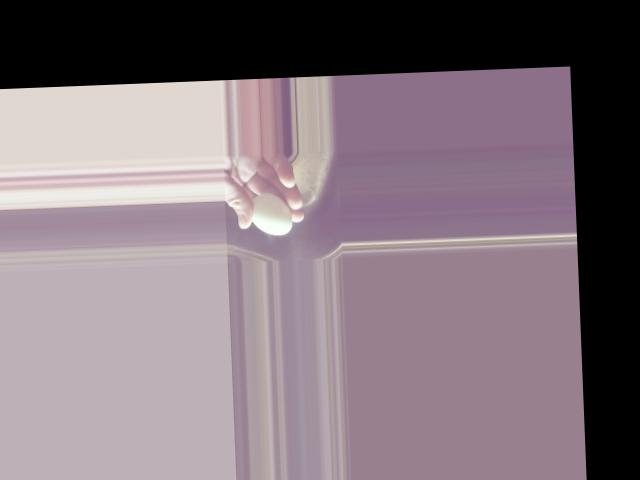egg: (250, 192, 292, 236)
